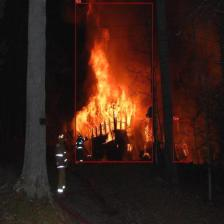fire: (75, 3, 153, 162), (173, 120, 190, 162)
